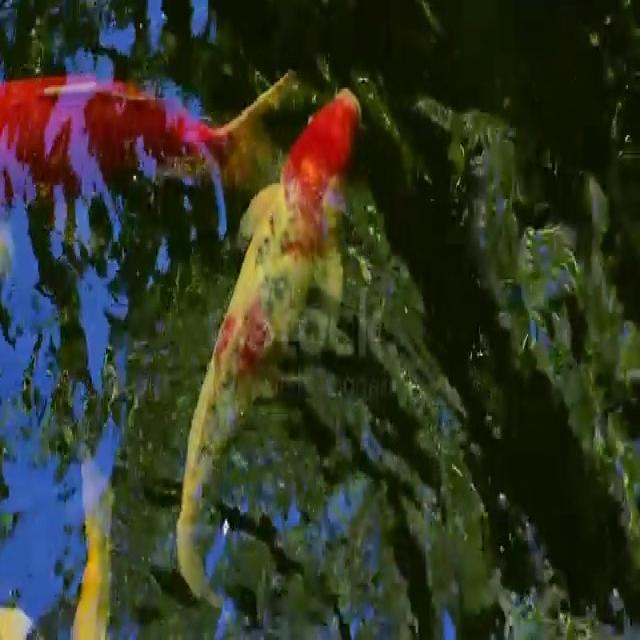fish: (179, 99, 375, 640), (12, 49, 280, 202), (79, 466, 130, 640)
